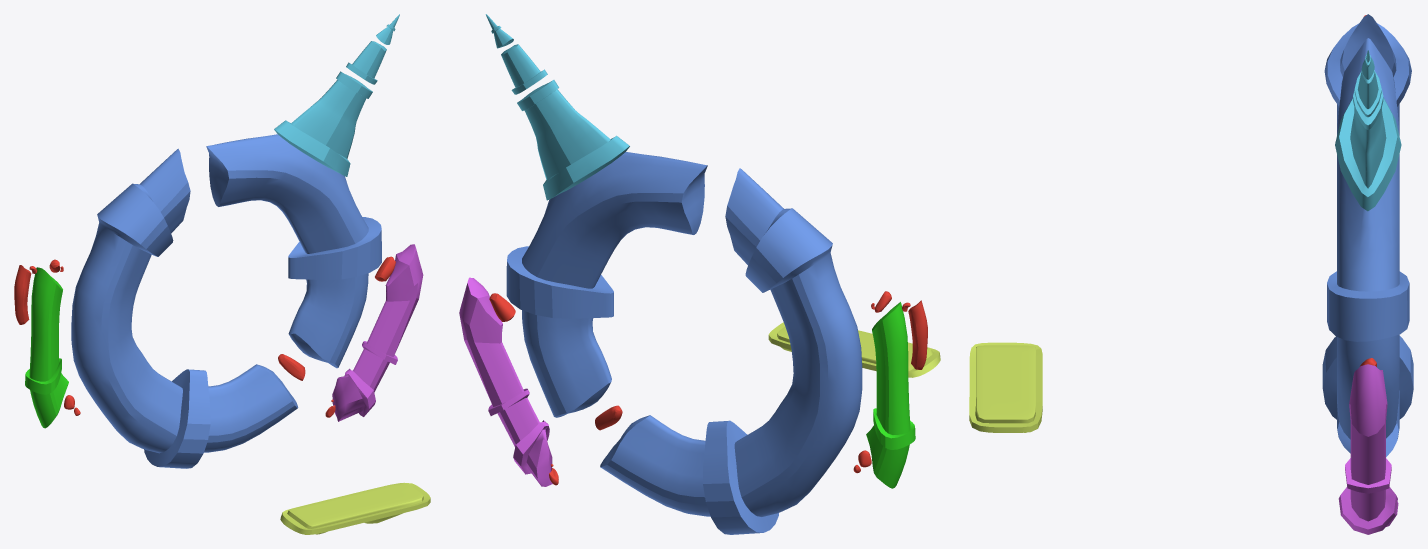
Rendered from escenario_object_hassle_zurro.fbx.
The picture shows the model from 3 angles, left to right: view 1: azimuth 30°, elevation 25°; view 2: azimuth 150°, elevation 25°; view 3: azimuth 270°, elevation 25°; orthographic projection. The views are drawn at different scales.
Visible parts, largest first — view 1: circulo tocho, circulo tocho.001, piedra_lateral_izq, pieza_lateral_drch, escenario, pidera_izq_1; view 2: circulo tocho, circulo tocho.001, piedra_lateral_izq, pieza_lateral_drch, pidera_izq_1, escenario; view 3: circulo tocho, piedra_lateral_izq, escenario, circulo tocho.001.
Boxes of the visible parts, x1,y1,x2,y2 form: circulo tocho: [71, 134, 381, 468]; circulo tocho.001: [274, 14, 399, 176]; piedra_lateral_izq: [332, 244, 423, 421]; pieza_lateral_drch: [25, 267, 68, 428]; escenario: [280, 482, 430, 534]; pidera_izq_1: [14, 256, 395, 417]; circulo tocho: [506, 152, 862, 534]; circulo tocho.001: [485, 14, 629, 200]; piedra_lateral_izq: [459, 277, 552, 486]; pieza_lateral_drch: [866, 302, 915, 488]; pidera_izq_1: [489, 291, 927, 485]; escenario: [768, 322, 940, 377]; circulo tocho: [1322, 14, 1413, 457]; piedra_lateral_izq: [1338, 364, 1398, 534]; escenario: [969, 342, 1042, 432]; circulo tocho.001: [1335, 50, 1401, 211].
Bounding box in the file's own units: 14319 × 13399 × 10384.
